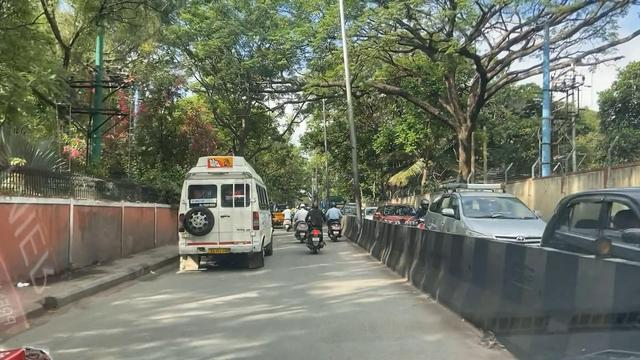HMV: (161, 140, 280, 292)
